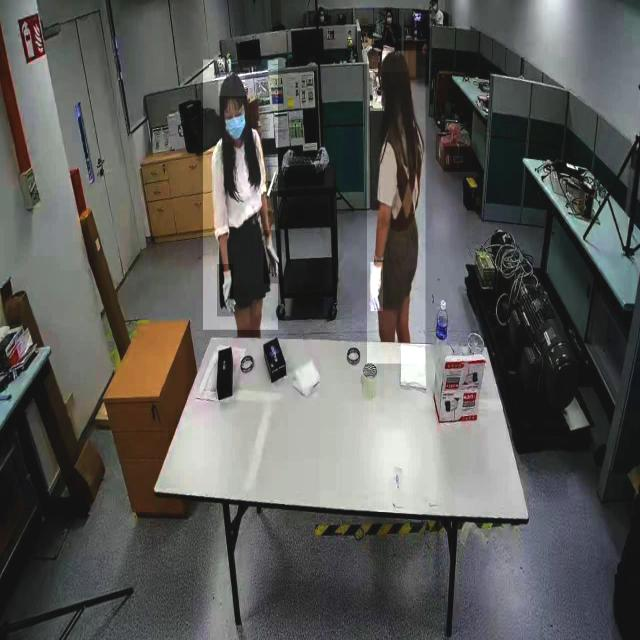face_mask: (224, 99, 248, 142), (386, 17, 394, 30)
hand_glove: (264, 230, 282, 284), (217, 264, 234, 317), (371, 262, 384, 312)
head_nohelmet: (218, 72, 246, 97), (382, 51, 408, 73), (385, 7, 393, 13), (318, 4, 324, 10)
person: (203, 59, 279, 330), (367, 51, 426, 364), (379, 9, 398, 55)
